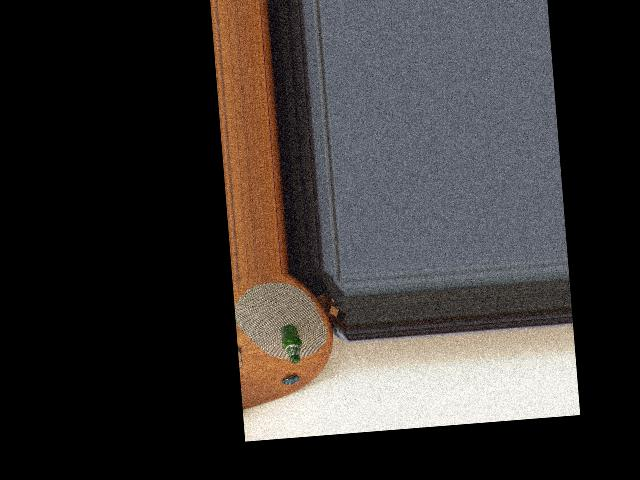beer: (279, 324, 303, 364)
